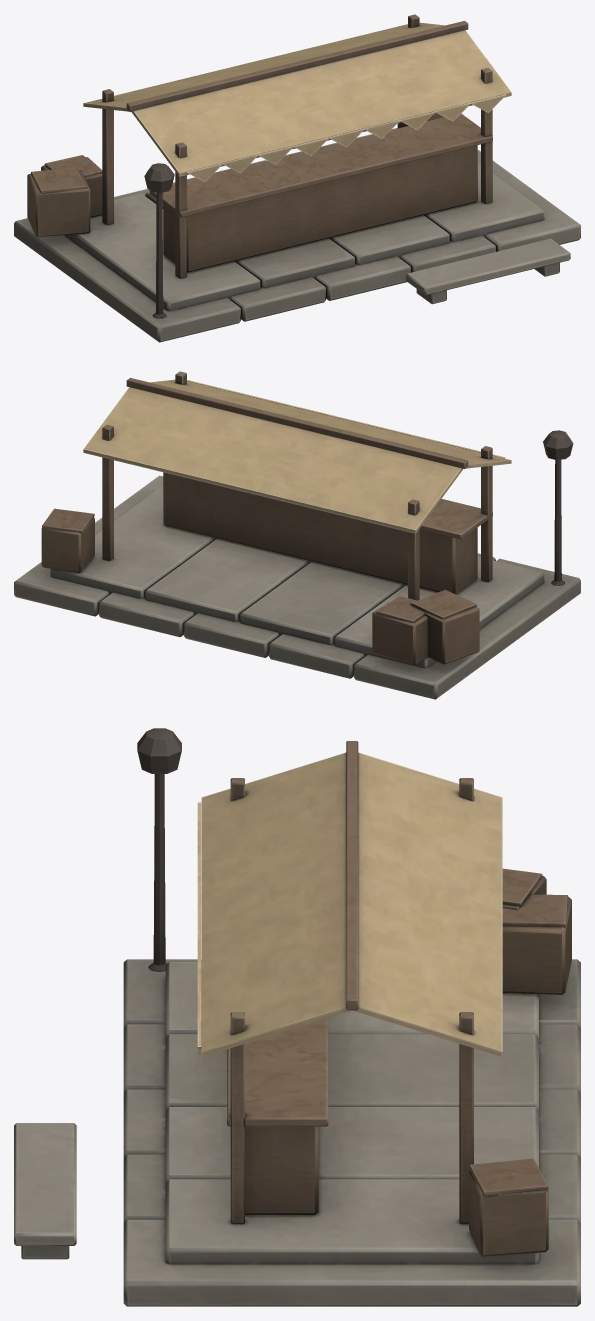
File: skirt_fray.glb
3 renders of one model, top to bottom at view 1: azimuth 30°, elevation 25°; view 2: azimuth 150°, elevation 25°; view 3: azimuth 270°, elevation 25°, orthographic. The views are drawn at different scales.
Parts seen in each view (by area): view 1: skirt_fray_body; view 2: skirt_fray_body; view 3: skirt_fray_body.
Boxes of the visible parts, x1=… form: skirt_fray_body: x1=14, y1=14, x2=580, y2=342; skirt_fray_body: x1=14, y1=371, x2=580, y2=699; skirt_fray_body: x1=14, y1=728, x2=580, y2=1306.
Bounding box in the file's own units: 6.53 × 2.53 × 4.71.
1 material, 1 textured.
